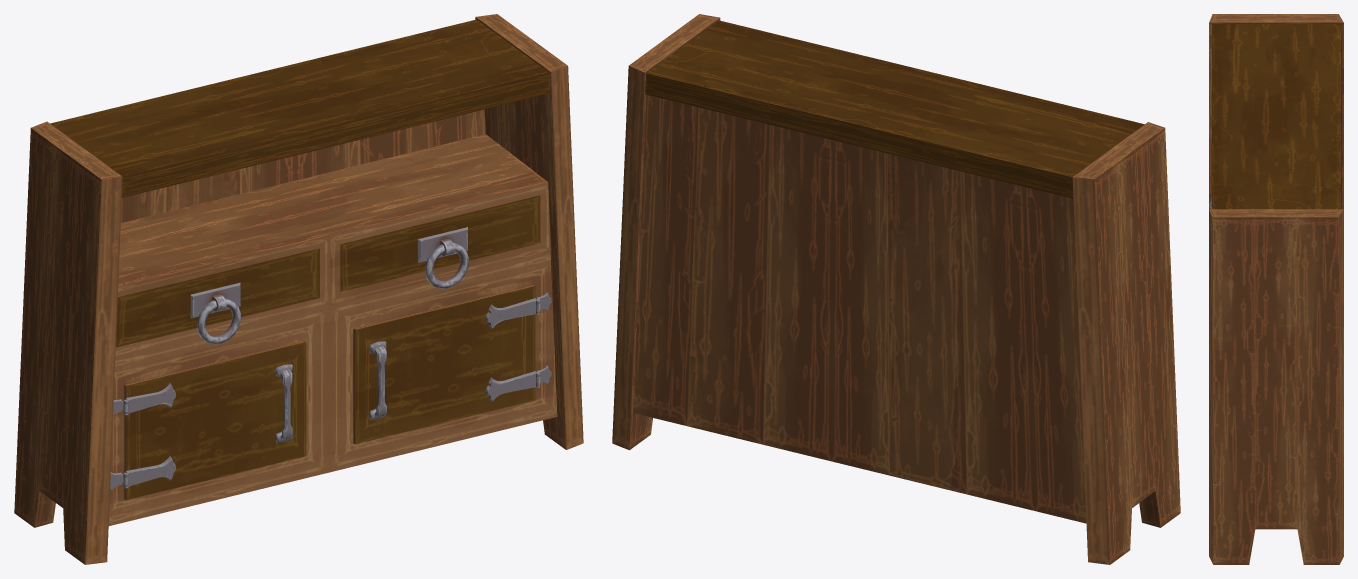
Rendered from Cabinet.gltf.
The picture shows the model from 3 angles, left to right: view 1: azimuth 30°, elevation 25°; view 2: azimuth 150°, elevation 25°; view 3: azimuth 270°, elevation 25°; orthographic projection. The views are drawn at different scales.
Visible parts, largest first — view 1: Cabinet; view 2: Cabinet; view 3: Cabinet.
Part boxes in pixels (<box>): Cabinet: <box>14,14,583,564</box>; Cabinet: <box>612,14,1180,564</box>; Cabinet: <box>1209,14,1343,564</box>.
Size of the model in its own units: 1.36 by 0.9974 by 0.3571.
2 materials, 2 textured.
